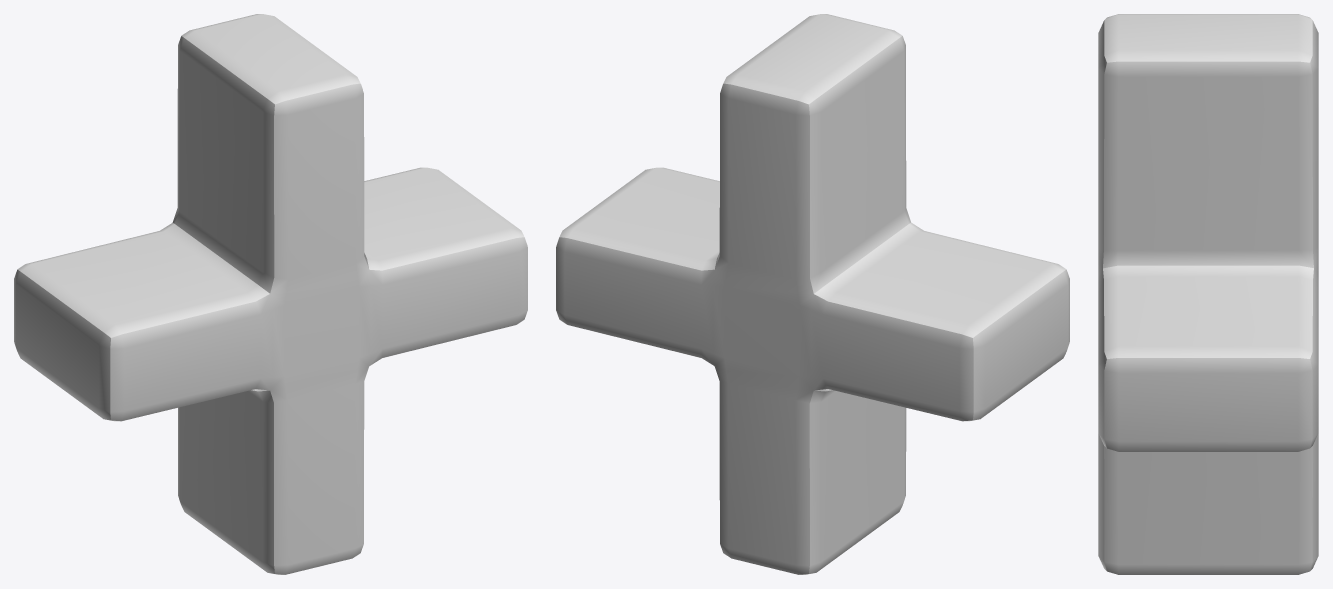
Rendered from BotonMasEXPORT.glb.
3 renders of one model, left to right at view 1: azimuth 30°, elevation 25°; view 2: azimuth 150°, elevation 25°; view 3: azimuth 270°, elevation 25°, orthographic. The views are drawn at different scales.
Parts seen in each view (by area): view 1: VolMas; view 2: VolMas; view 3: VolMas.
Boxes of the visible parts, x1=… form: VolMas: x1=14, y1=14, x2=527, y2=574; VolMas: x1=556, y1=14, x2=1069, y2=574; VolMas: x1=1098, y1=14, x2=1318, y2=574.
Bounding box in the file's own units: 0.3287 × 0.3558 × 0.1355.
1 material, 1 textured.
